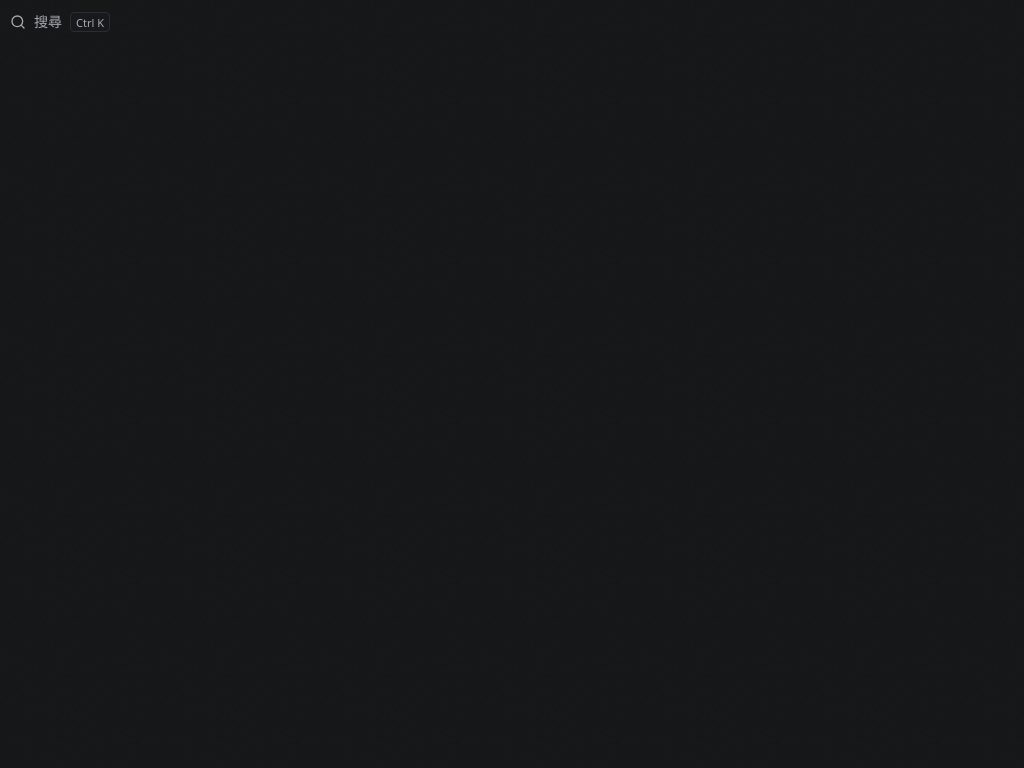
it: CommandPalette › omits the copy action entirely when no address is published
Type keys "{Control>}k{/Control}"
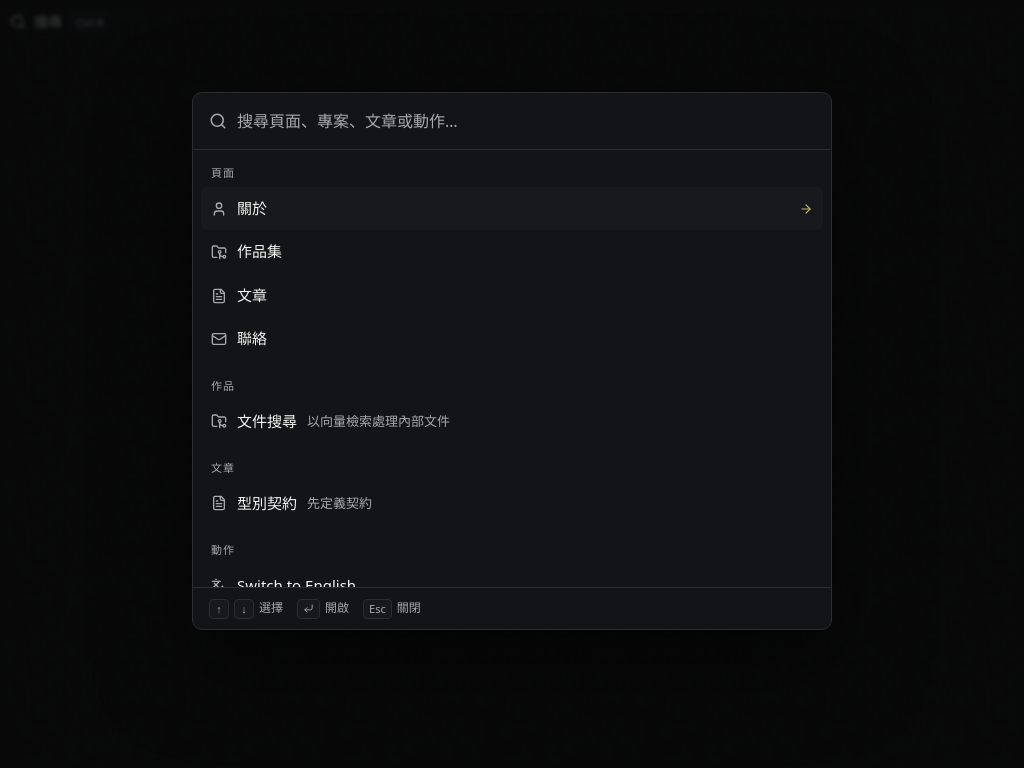
Type "複製 Email" into the dropdown at (526, 121), box top-left (237, 107), bottom-right (815, 135)
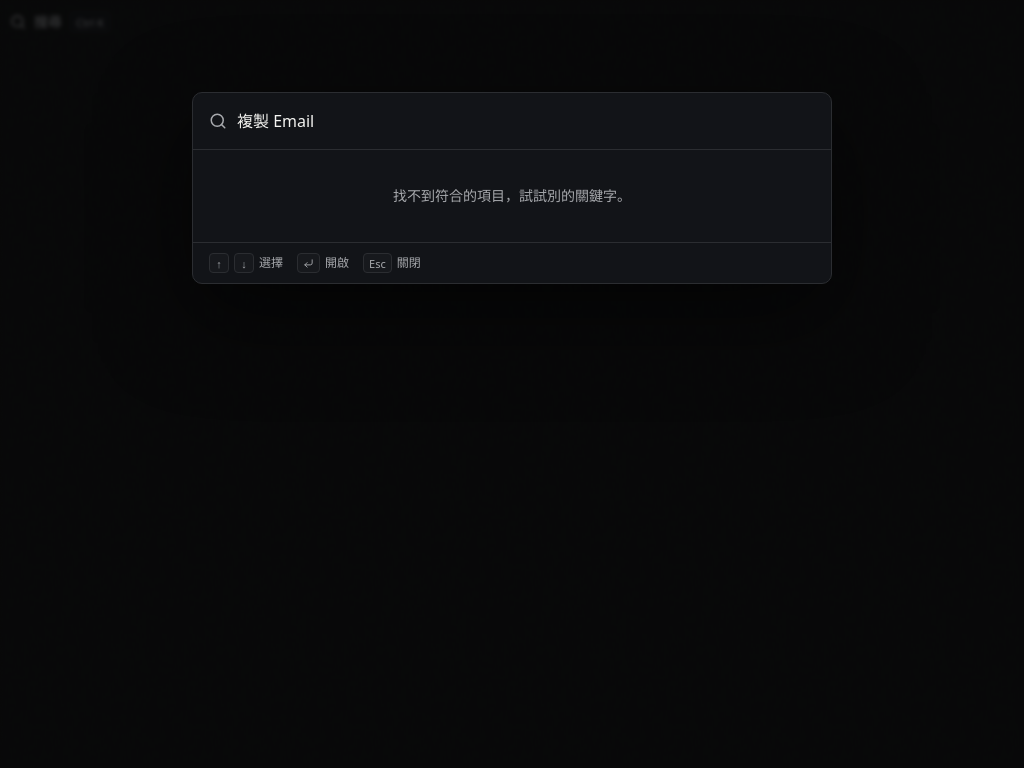
Result: no options are shown
